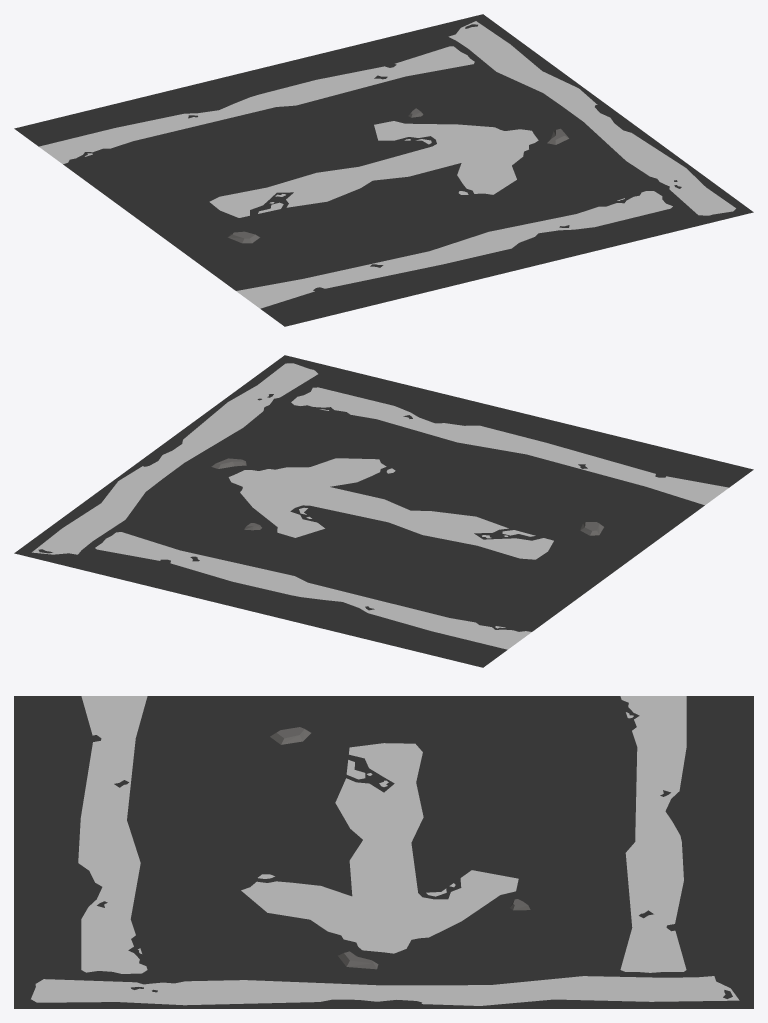
Rendered from Asphalt_09.FBX.
The picture shows the model from 3 angles, top to bottom: view 1: azimuth 30°, elevation 25°; view 2: azimuth 150°, elevation 25°; view 3: azimuth 270°, elevation 25°; orthographic projection. The views are drawn at different scales.
Visible parts, largest first — view 1: Asphalt_09; view 2: Asphalt_09; view 3: Asphalt_09.
Part boxes in pixels (<box>): Asphalt_09: <box>14,14,753,326</box>; Asphalt_09: <box>14,355,753,667</box>; Asphalt_09: <box>14,696,753,1008</box>.
Size of the model in its own units: 5 by 0.03 by 5.
